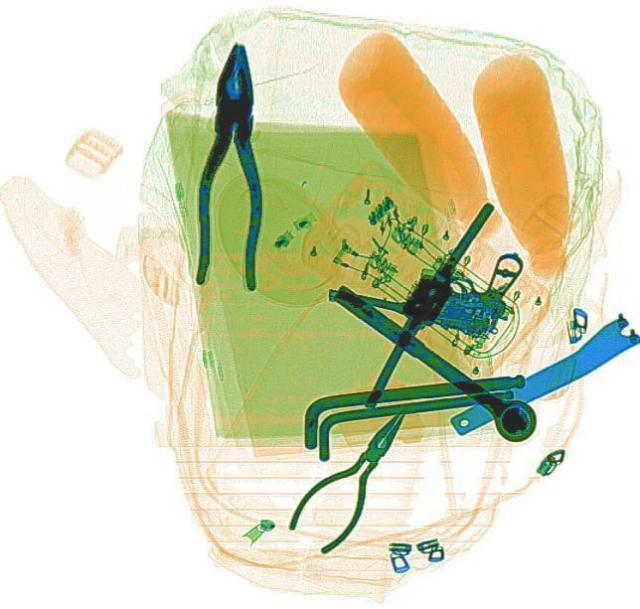Gun: (322, 215, 526, 342)
Pliers: (279, 388, 433, 556), (192, 40, 270, 289)
